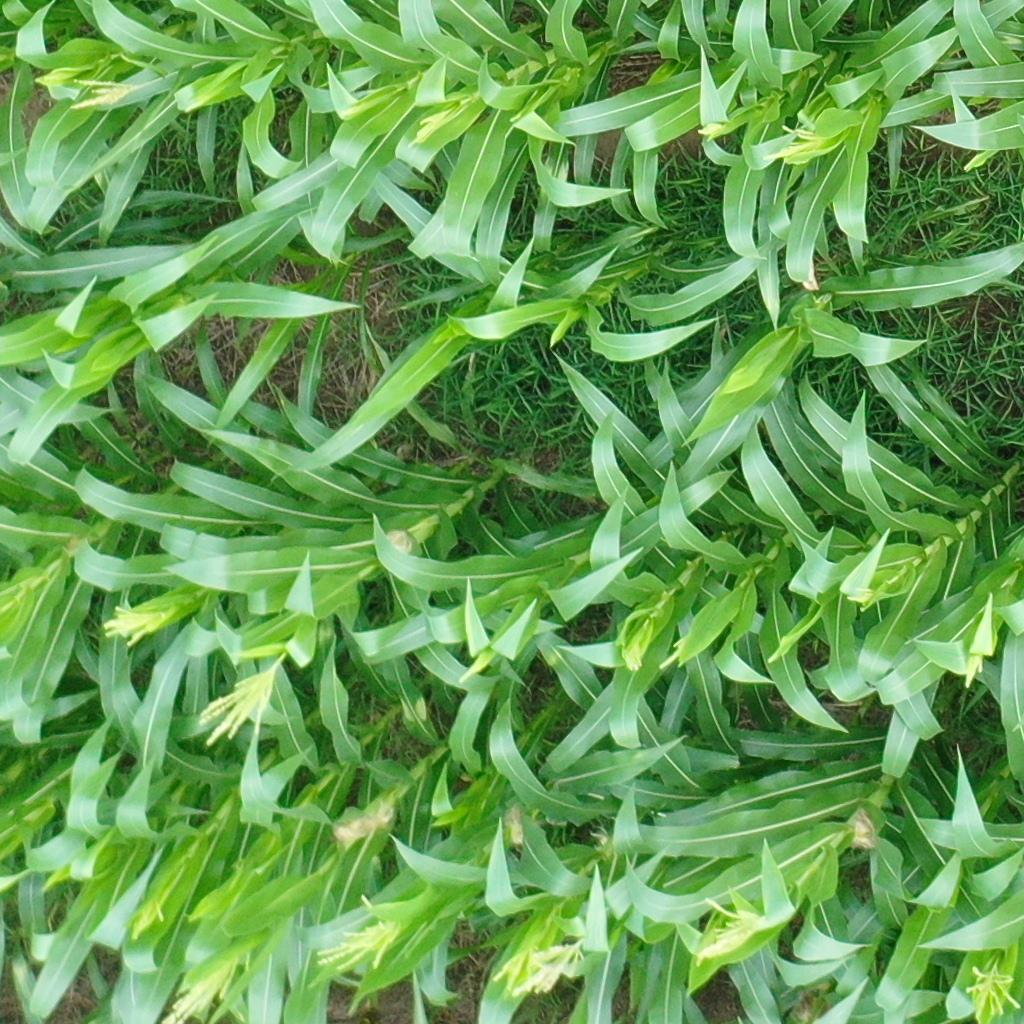Tassel: (201, 648, 288, 744), (684, 893, 766, 971), (313, 890, 391, 972), (487, 937, 587, 996), (151, 962, 235, 1024), (44, 74, 130, 113), (97, 602, 166, 649), (966, 963, 1021, 1020), (399, 100, 454, 148), (763, 125, 823, 167), (126, 900, 166, 946), (617, 620, 647, 673), (659, 631, 689, 674), (964, 646, 984, 694), (844, 582, 872, 611), (692, 120, 724, 138)
